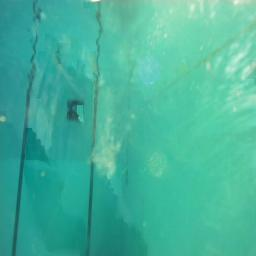Full: (66, 110, 84, 120)
